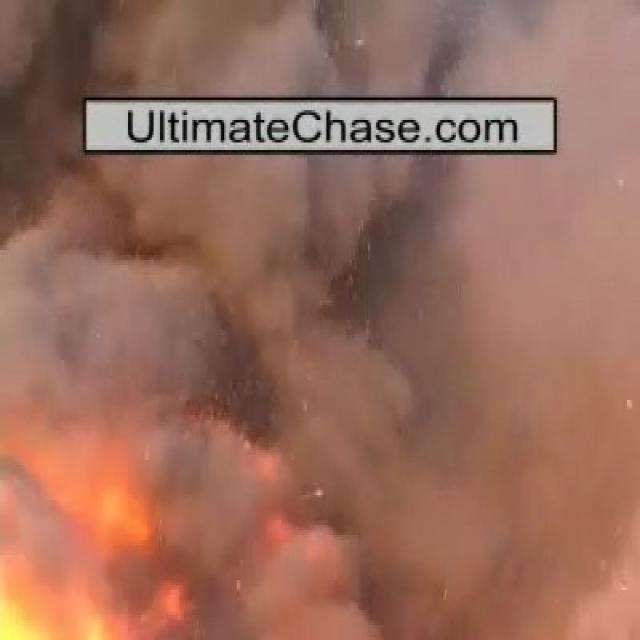Smoke: (33, 170, 567, 608)
